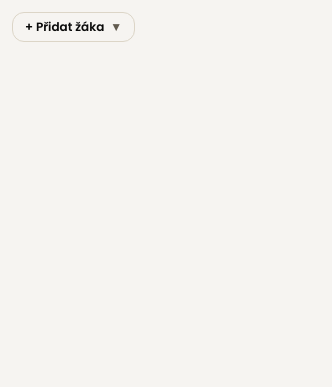
Test: PickerMenu › searches longer lists and picks with the keyboard
The image size is (332, 387).
Later steps or results of the test are not shown.
Click the button "+ Přidat žáka ▼".
click(74, 27)  # box [12, 12, 135, 42]
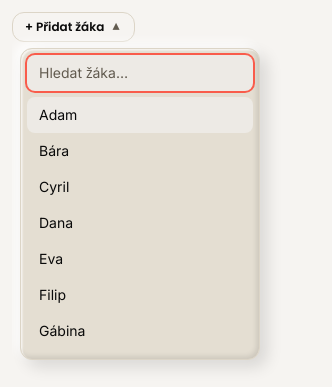
Type "fil" into the field with placeholder "Hledat žáka…".
click(140, 73); type("fil")  # box [27, 55, 253, 91]
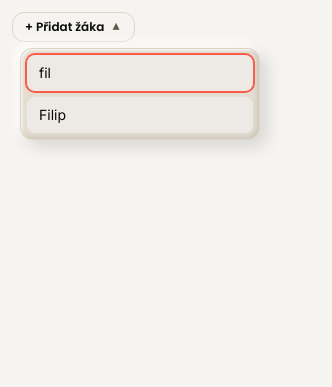
Check: the options read "Filip", in this order, box [27, 97, 253, 133]
